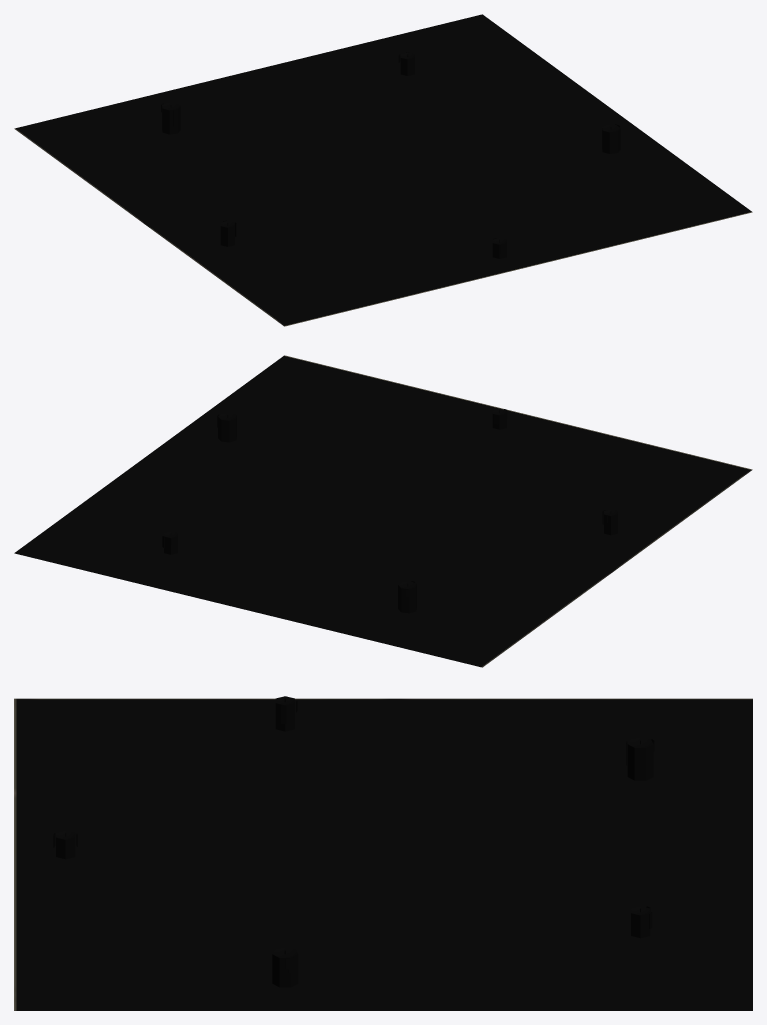
The model's file is SM_ritual_circle.fbx.
The picture shows the model from 3 angles, top to bottom: view 1: azimuth 30°, elevation 25°; view 2: azimuth 150°, elevation 25°; view 3: azimuth 270°, elevation 25°; orthographic projection. The views are drawn at different scales.
Visible parts, largest first — view 1: ritual_circle; view 2: ritual_circle; view 3: ritual_circle.
Part boxes in pixels (x1,y1,x2,y2): ritual_circle: [14, 14, 752, 326]; ritual_circle: [14, 355, 752, 667]; ritual_circle: [14, 696, 752, 1010].
Bounding box in the file's own units: 2 × 0.107 × 2.
